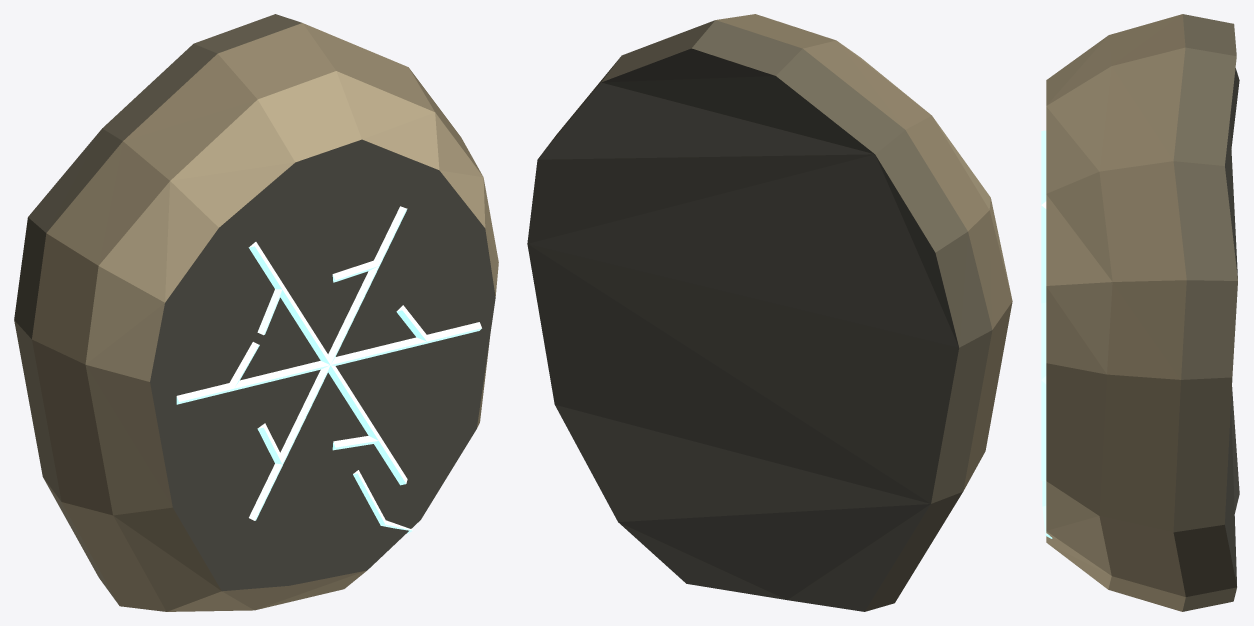
The model's file is FERNSTONE_FROST.lo.glb.
3 views of the same model, side by side, from view 1: azimuth 30°, elevation 25°; view 2: azimuth 150°, elevation 25°; view 3: azimuth 270°, elevation 25° (orthographic).
Visible parts, largest first — view 1: Body_Mesh; view 2: Body_Mesh; view 3: Body_Mesh.
Part boxes in pixels (<box>): Body_Mesh: <box>14,14,498,611</box>; Body_Mesh: <box>527,14,1012,611</box>; Body_Mesh: <box>1041,14,1239,611</box>.
Size of the model in its own units: 0.2726 by 0.3257 by 0.1044.
1 material, 1 textured.
